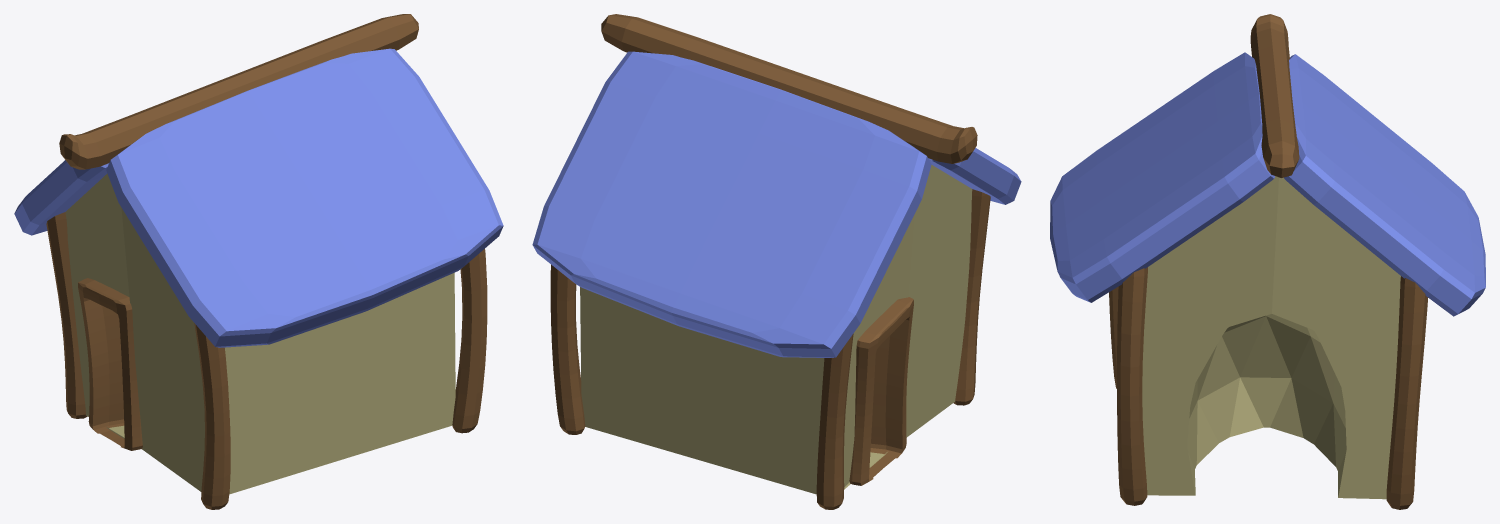
The model's file is casaPerro.fbx.
3 renders of one model, left to right at view 1: azimuth 30°, elevation 25°; view 2: azimuth 150°, elevation 25°; view 3: azimuth 270°, elevation 25°, orthographic.
Parts seen in each view (by area): view 1: Cube.035; view 2: Cube.035; view 3: Cube.035.
Boxes of the visible parts, bbox=[...] form: Cube.035: bbox=[14, 14, 503, 509]; Cube.035: bbox=[532, 14, 1021, 509]; Cube.035: bbox=[1050, 14, 1485, 509].
Size of the model in its own units: 672 by 676 by 699.
